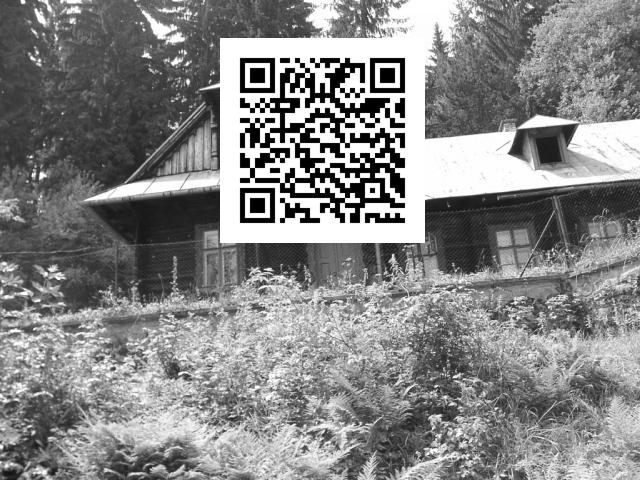qr_code: (235, 50, 412, 230)
